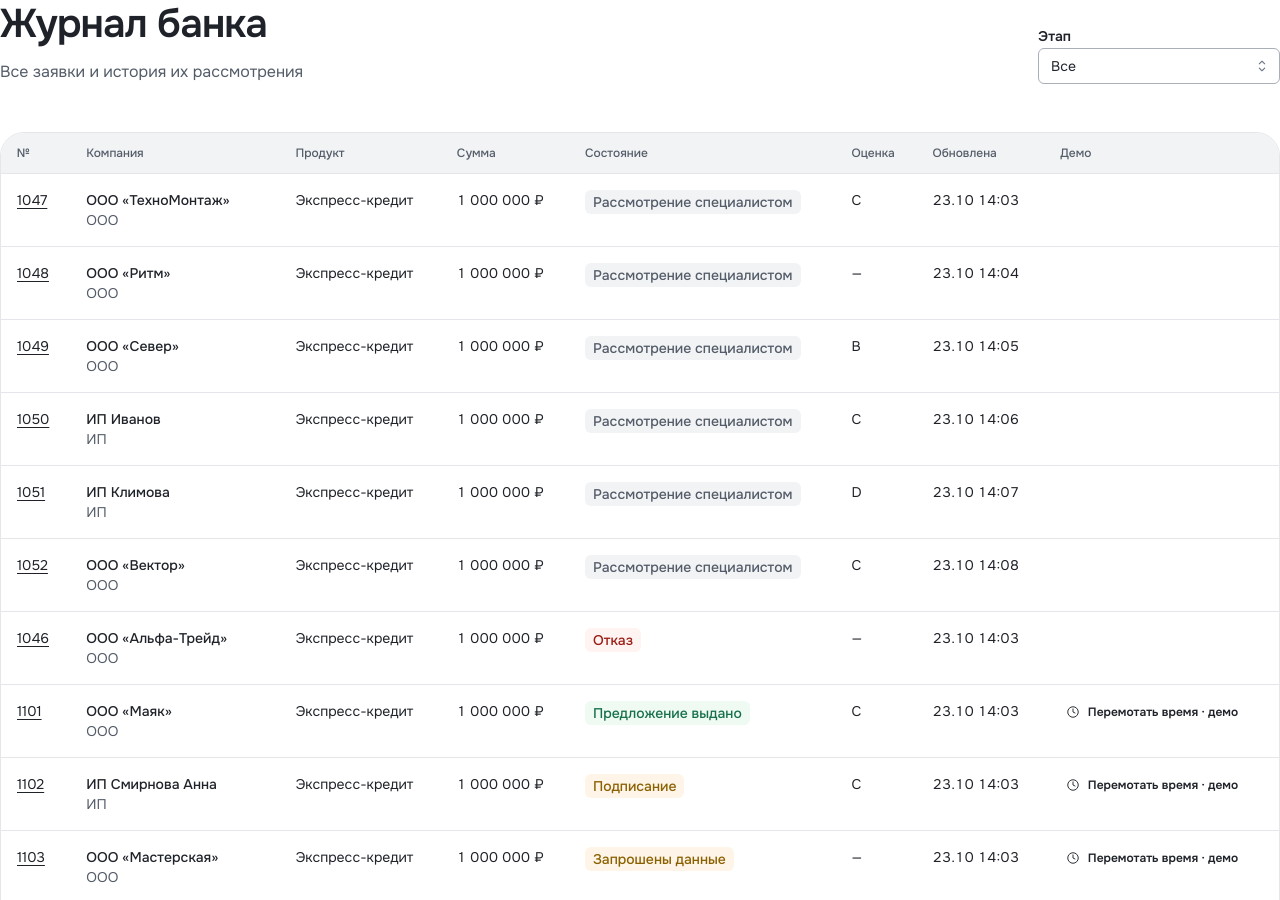
it: объясняет отключённый демо-режим при 403
The width and height of the screenshot is (1280, 900).
Step 1. Click the button "Перемотать время · демо" in the row of "Предложение выдано" → [1153, 712], box [1060,701,1246,723]
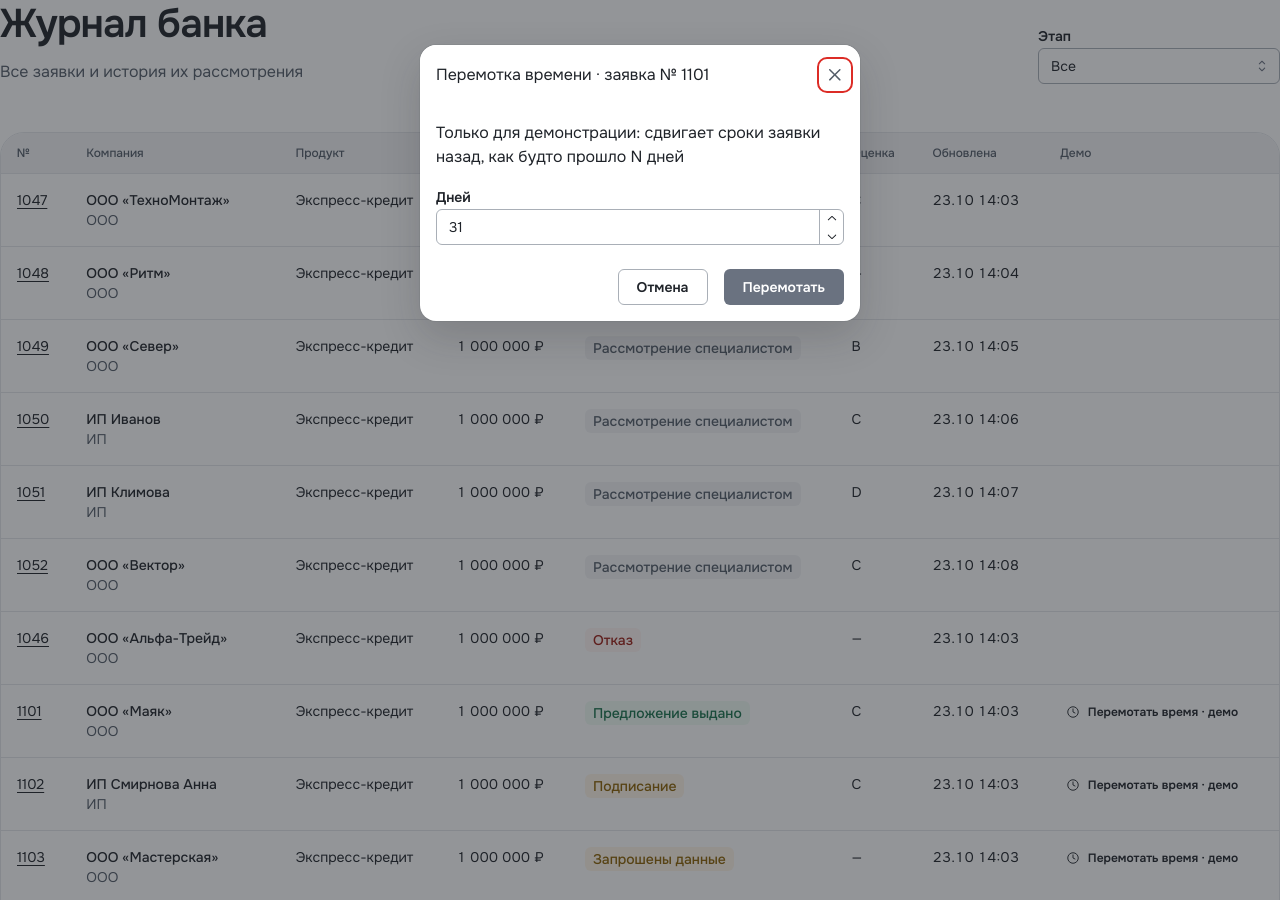
Step 2. Click the button "Перемотать" → [784, 287], box [724,269,844,305]
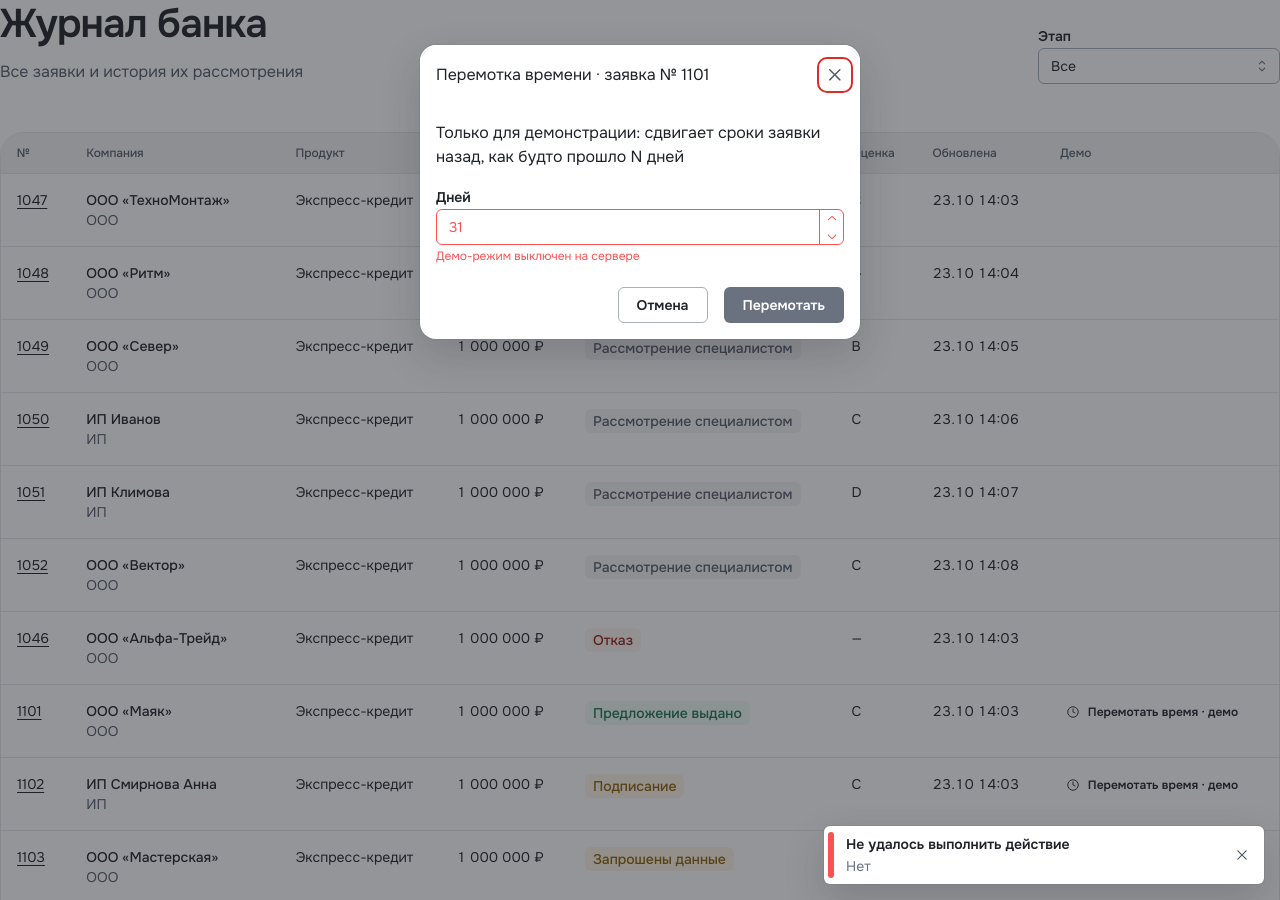
expect the text "Демо-режим выключен на сервере" is shown: met, box [436,248,640,264]
